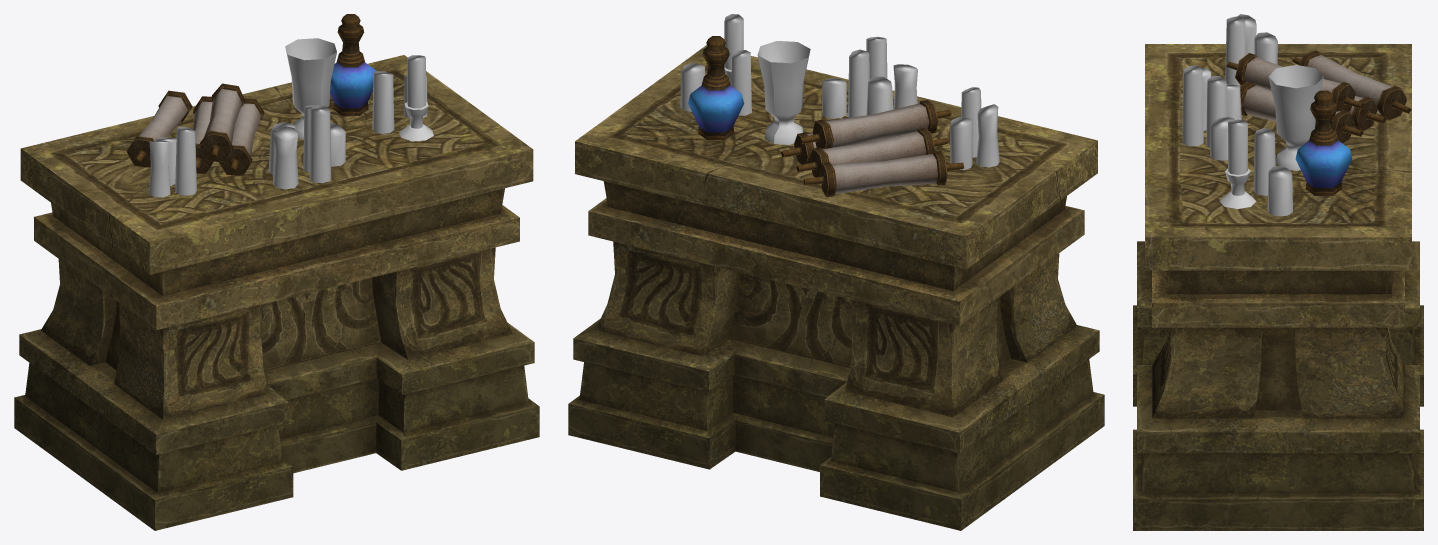
The model's file is Stone_Altar_03.fbx.
3 renders of one model, left to right at view 1: azimuth 30°, elevation 25°; view 2: azimuth 150°, elevation 25°; view 3: azimuth 270°, elevation 25°, orthographic. The views are drawn at different scales.
Parts seen in each view (by area): view 1: Stone_Altar_03; view 2: Stone_Altar_03; view 3: Stone_Altar_03.
Part boxes in pixels (x1=…): Stone_Altar_03: x1=14, y1=14, x2=539, y2=530; Stone_Altar_03: x1=568, y1=14, x2=1104, y2=530; Stone_Altar_03: x1=1133, y1=14, x2=1423, y2=530.
Size of the model in its own units: 1.62 by 1.52 by 1.03.
